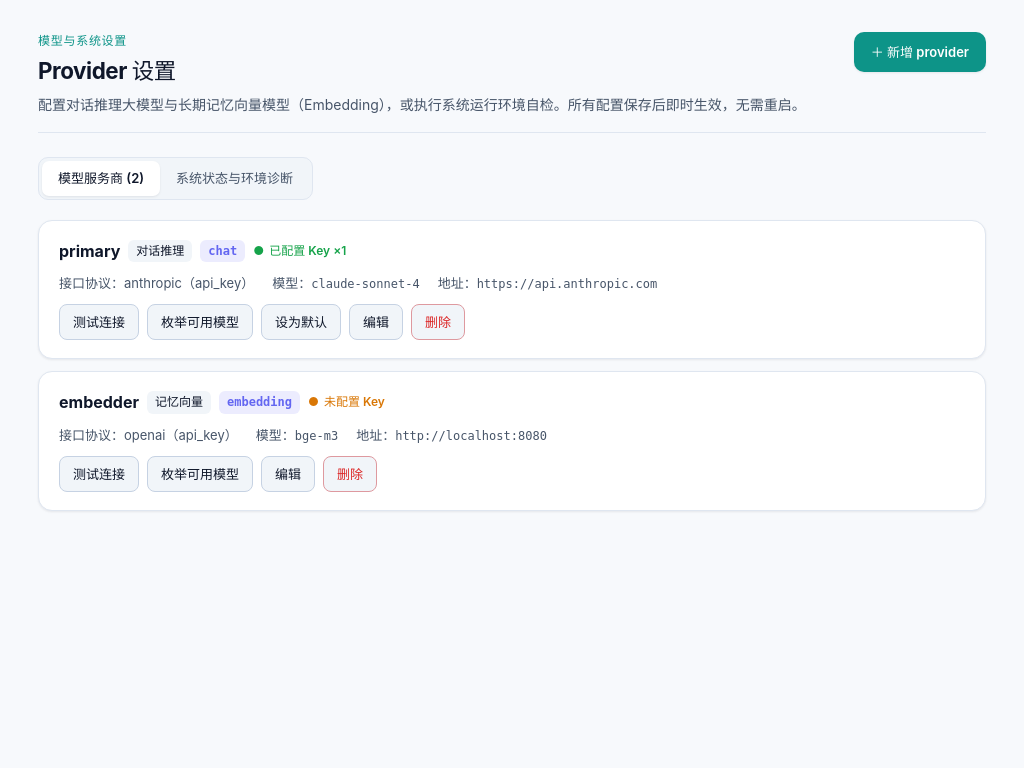
SettingsPage › shows the probe result card with error_kind advice on failure
What coordinates should you click on to do the following:
click the button "测试连接" below "claude-sonnet-4"
I would click on:
 (99, 322)
Its box is [59,304,139,340].
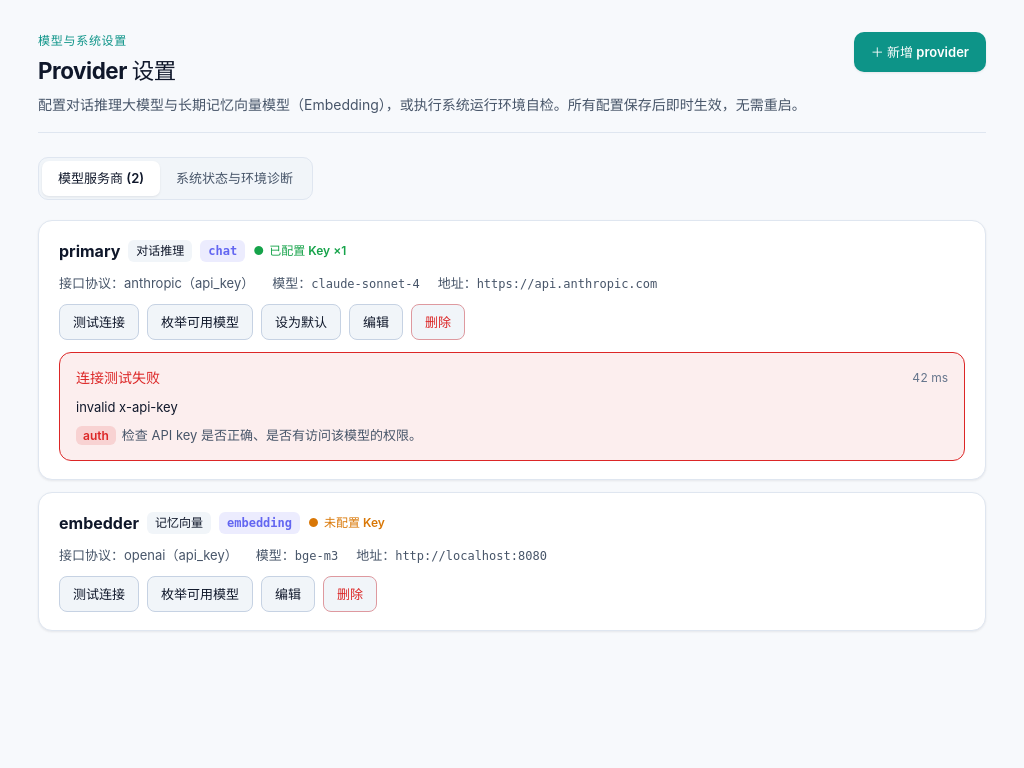
Expected: the text "连接测试失败" is shown, [76,367,160,389]
Expected: the text "invalid x-api-key" is shown, [76,399,178,415]
Expected: the text "auth" is shown, [76,426,116,445]
